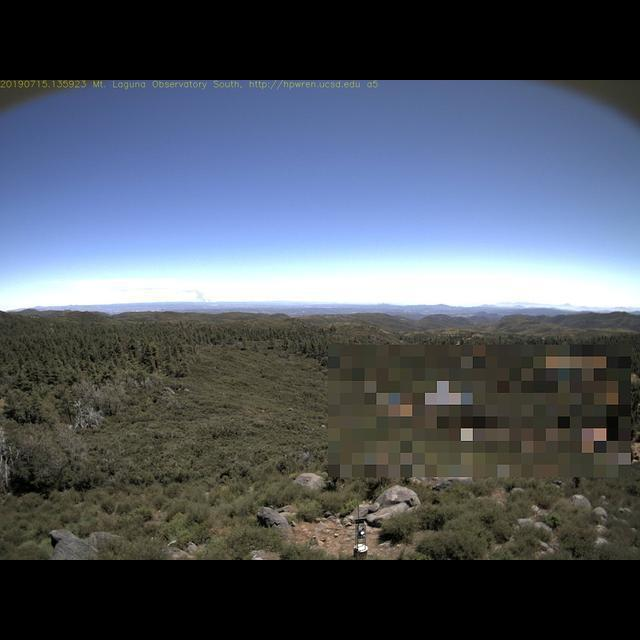Smoke: (183, 284, 212, 304)
